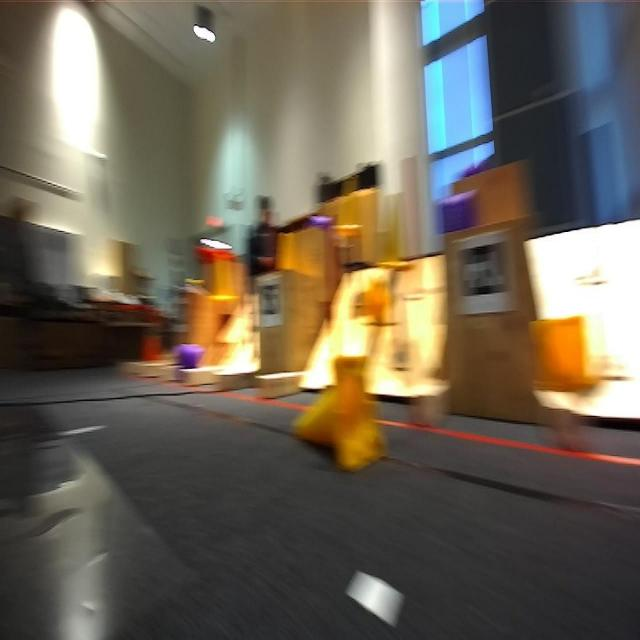frc_cone: (290, 357, 385, 471), (532, 315, 600, 399), (370, 183, 415, 269), (332, 172, 362, 239), (359, 276, 395, 330), (208, 243, 240, 301)
frc_cube: (439, 191, 478, 230), (176, 338, 200, 372), (462, 160, 490, 179), (309, 212, 339, 228)
